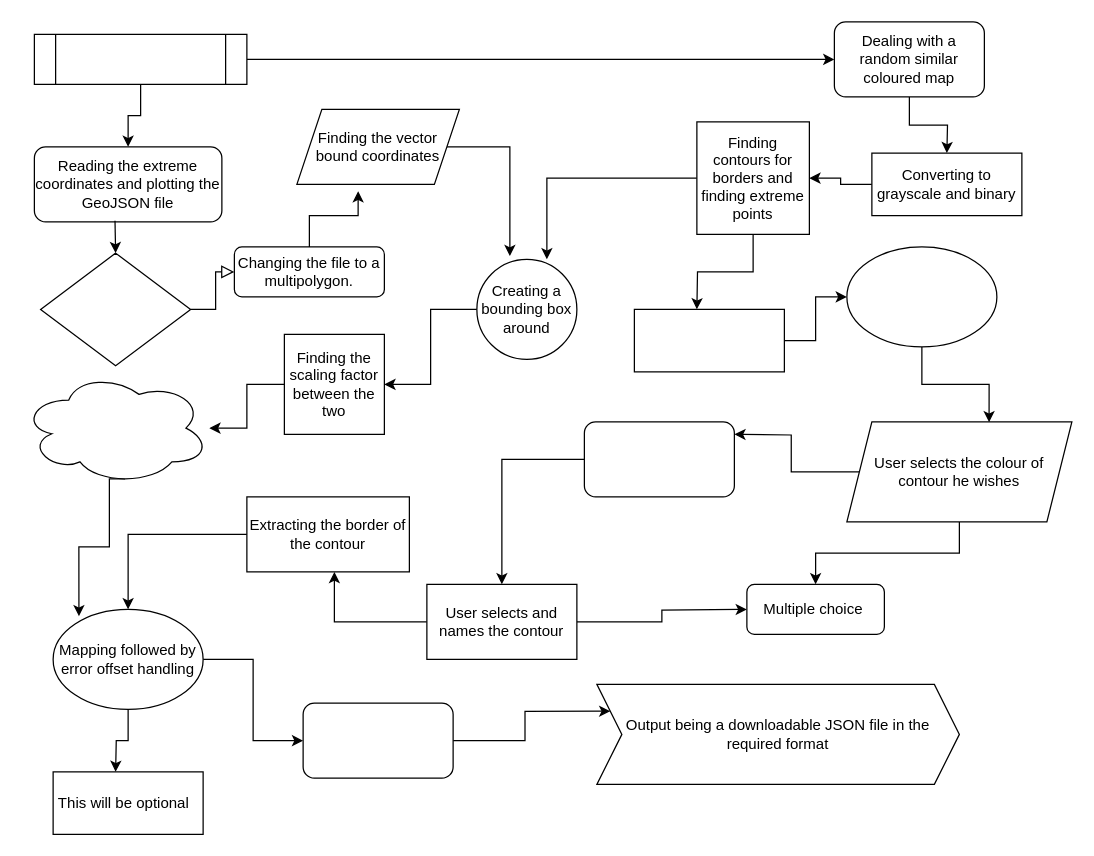
This 1094x856 diagram has some shape labels left out. Each missing label, with the centre of its shape:
Creating a mask based on the select colour: pixel 658 459
Displaying a colour palette: pixel 921 296
Importing necessary packages: pixel 140 58
Mapping Points followed by border: pixel 115 427
Output list of coordinates is to be stored in a GEOJSON format: pixel 377 740
Printing colours of the map as a list of tuples: pixel 708 340
Removing the noise: pixel 115 309
